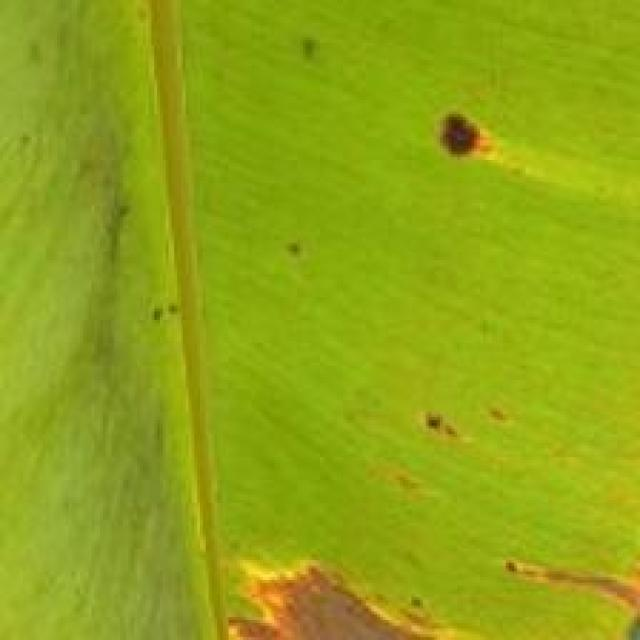Bacterial_spot: (200, 538, 457, 640), (497, 536, 640, 630), (424, 82, 504, 198), (396, 382, 514, 456)
